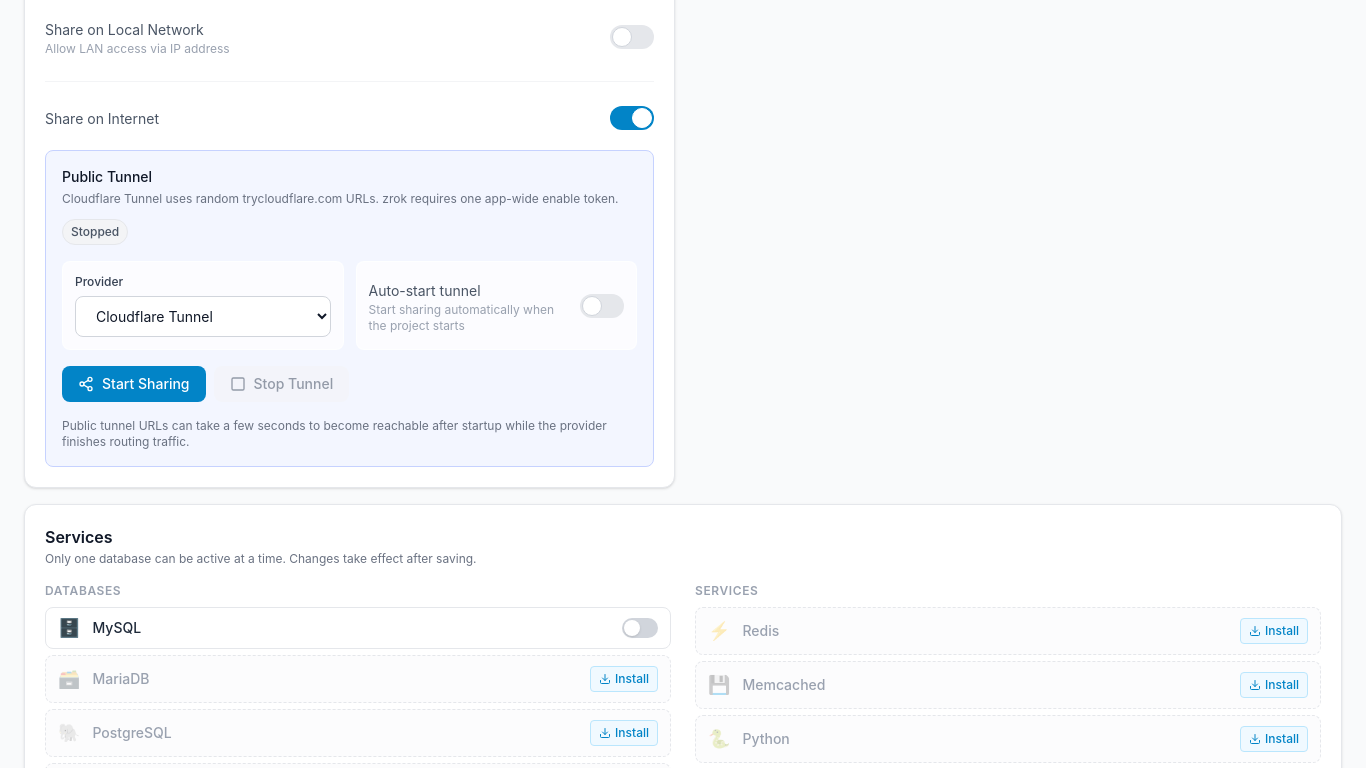
Test: ProjectDetail › Internet sharing › ignores a foreign tunnel start payload and waits for this project status
The image size is (1366, 768).
(page scrolled)
Click the button "Start Sharing" at (134, 384), box x1=62 y1=366 x2=206 y2=402
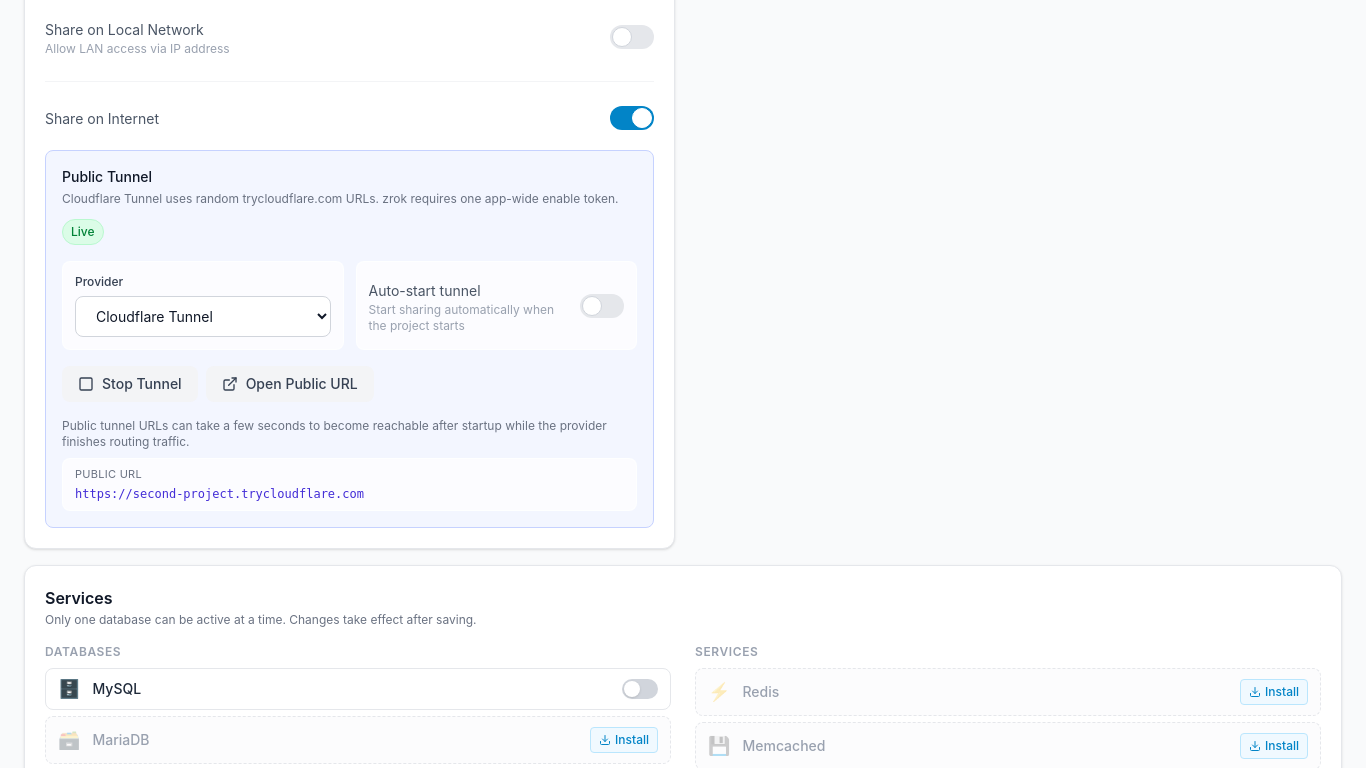
Expected: the text "https://second-project.trycloudflare.com" is shown, x1=75 y1=487 x2=364 y2=501
